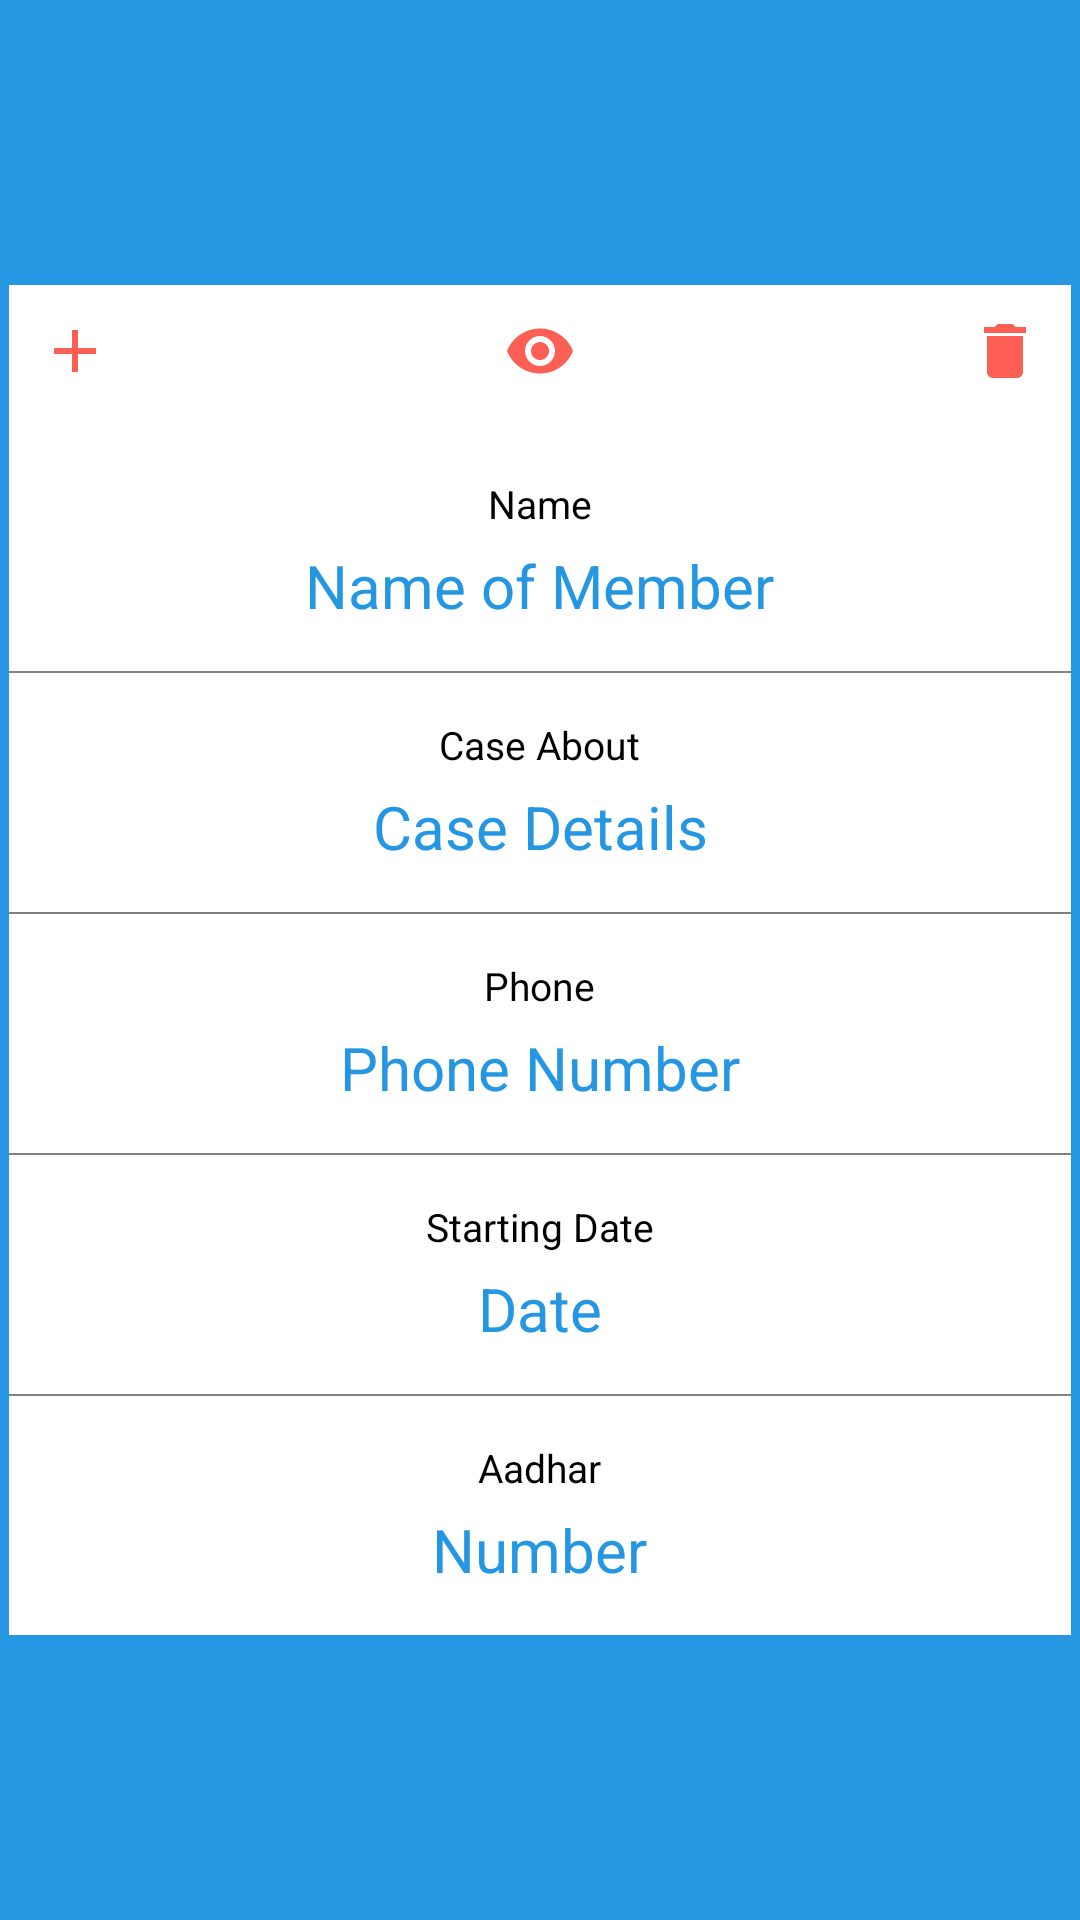

Screen size 1080*1920. Icon name, then its box in pixels as (x1, y1, x2, y2):
add: (54, 330, 96, 372)
delete: (984, 324, 1026, 378)
see staff: (507, 328, 573, 374)
